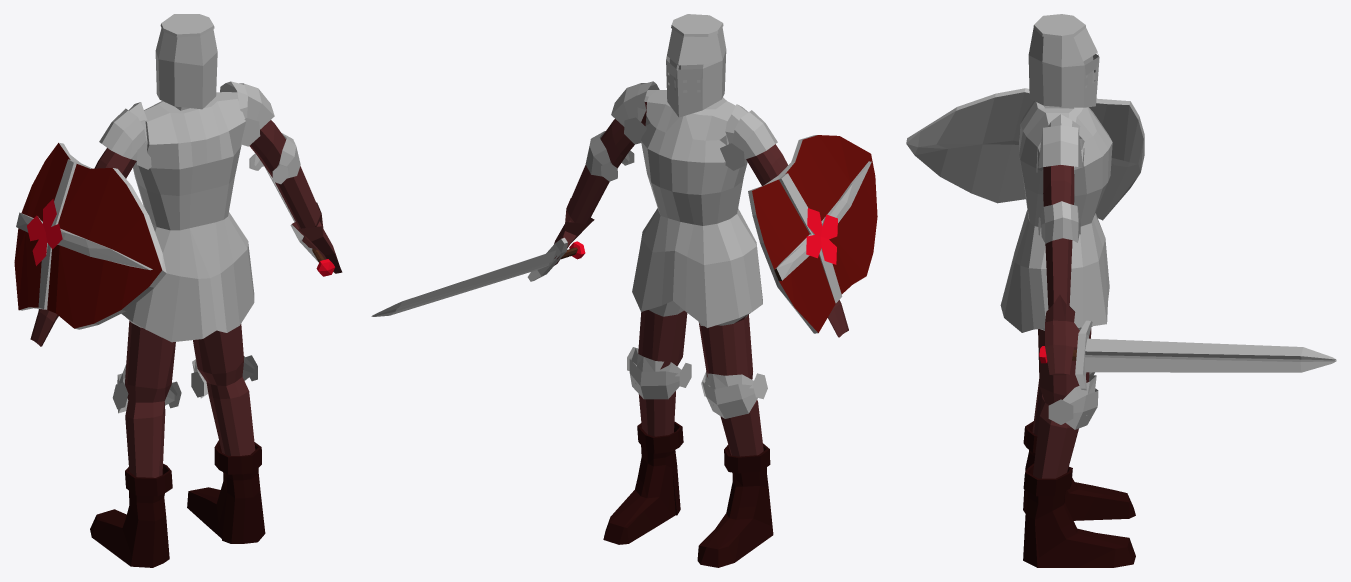
File: Knight.fbx
The picture shows the model from 3 angles, left to right: view 1: azimuth 30°, elevation 25°; view 2: azimuth 150°, elevation 25°; view 3: azimuth 270°, elevation 25°; orthographic projection. The views are drawn at different scales.
Visible parts, largest first — view 1: KnightBody, Shield, Sword; view 2: KnightBody, Shield, Sword; view 3: KnightBody, Shield, Sword.
Part boxes in pixels (x1,y1,x2,y2): KnightBody: (30,14,342,567); Shield: (14,142,166,329); Sword: (264,166,334,276); KnightBody: (554,14,848,567); Shield: (748,135,877,333); Sword: (371,237,585,316); KnightBody: (1000,14,1135,567); Shield: (906,88,1144,220); Sword: (1039,320,1336,390).
Size of the model in its own units: 416 by 592 by 452.
